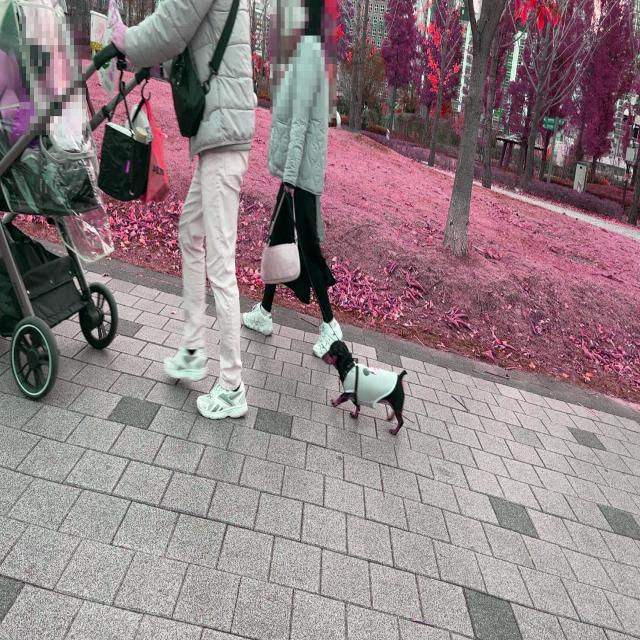Leashed_Dog: (283, 169, 407, 436)
